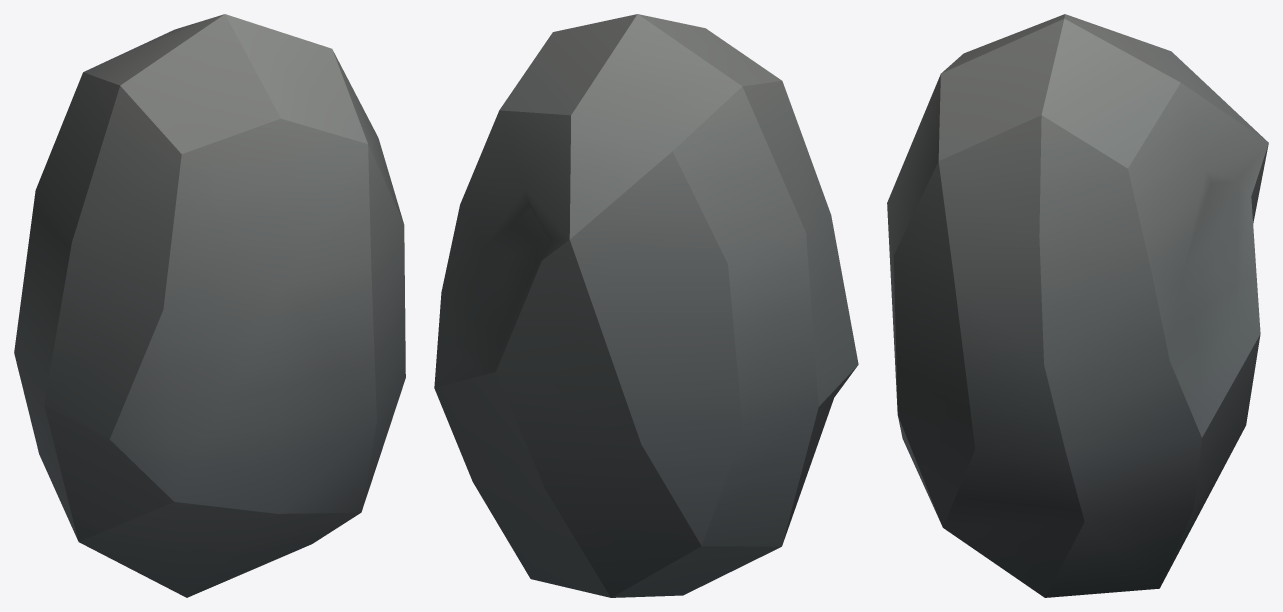
File: Rock_Medium_C.fbx
3 renders of one model, left to right at view 1: azimuth 30°, elevation 25°; view 2: azimuth 150°, elevation 25°; view 3: azimuth 270°, elevation 25°, orthographic.
Parts seen in each view (by area): view 1: Rock_Medium_C; view 2: Rock_Medium_C; view 3: Rock_Medium_C.
Part boxes in pixels (x1,y1,x2,y2): Rock_Medium_C: (14,14,405,597); Rock_Medium_C: (434,14,858,597); Rock_Medium_C: (887,14,1268,597).
Bounding box in the file's own units: 144 × 139 × 229.
Materials: 1 (1 with a texture image).
